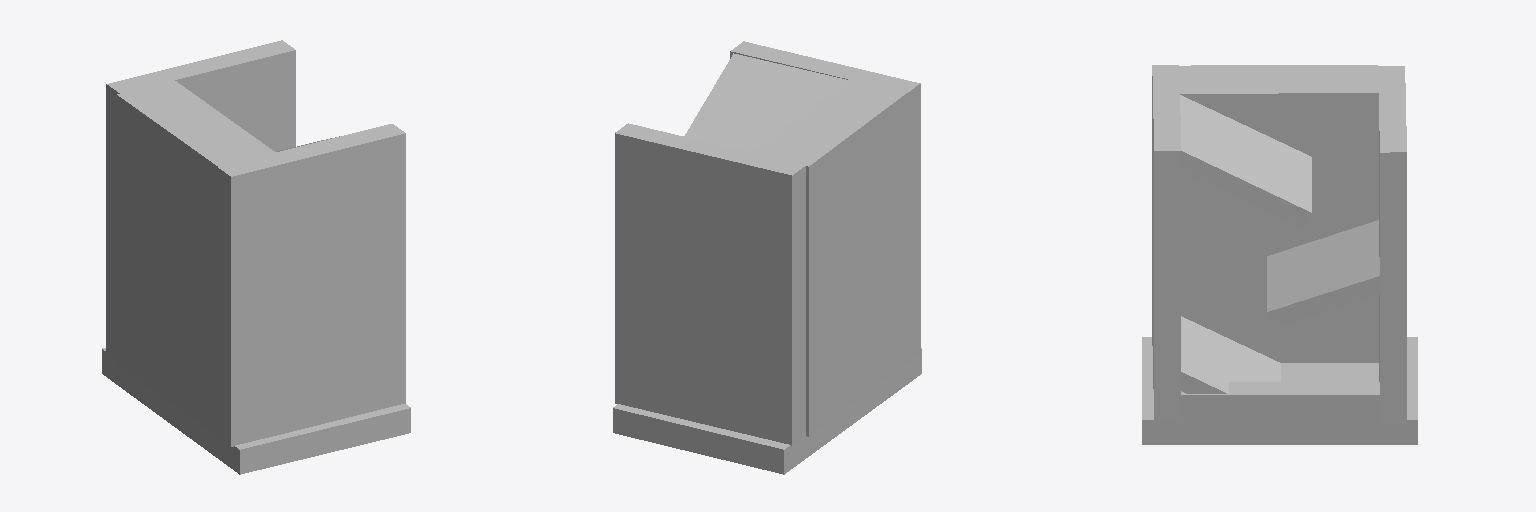
File: pachinko1Model.obj
3 views of the same model, side by side, from view 1: azimuth 30°, elevation 25°; view 2: azimuth 150°, elevation 25°; view 3: azimuth 270°, elevation 25° (orthographic).
Visible parts, largest first — view 1: Box6, Box, Box7, Cube.003; view 2: Box7, Box, Cube_Cube.005, Cube.003, Box6; view 3: Box, Cube.003, Box6, Cube_Cube.005, Box7, Cube.002_Cube.007, Cube.004, Cube.001_Cube.006.
Boxes of the visible parts, <box> form: Box6: <box>217,124,405,446</box>; Box: <box>117,80,275,435</box>; Box7: <box>106,40,295,361</box>; Cube.003: <box>102,348,410,474</box>; Box7: <box>615,123,805,445</box>; Box: <box>751,79,906,436</box>; Cube_Cube.005: <box>684,53,845,151</box>; Cube.003: <box>613,348,921,474</box>; Box6: <box>730,41,920,363</box>; Box: <box>1179,65,1378,362</box>; Cube.003: <box>1142,337,1417,444</box>; Box6: <box>1152,65,1180,420</box>; Cube_Cube.005: <box>1180,95,1311,228</box>; Box7: <box>1378,66,1406,422</box>; Cube.002_Cube.007: <box>1267,220,1379,328</box>; Cube.004: <box>1181,382,1379,419</box>; Cube.001_Cube.006: <box>1181,316,1280,393</box>.
Size of the model in its own units: 3.09 by 4.84 by 4.11.